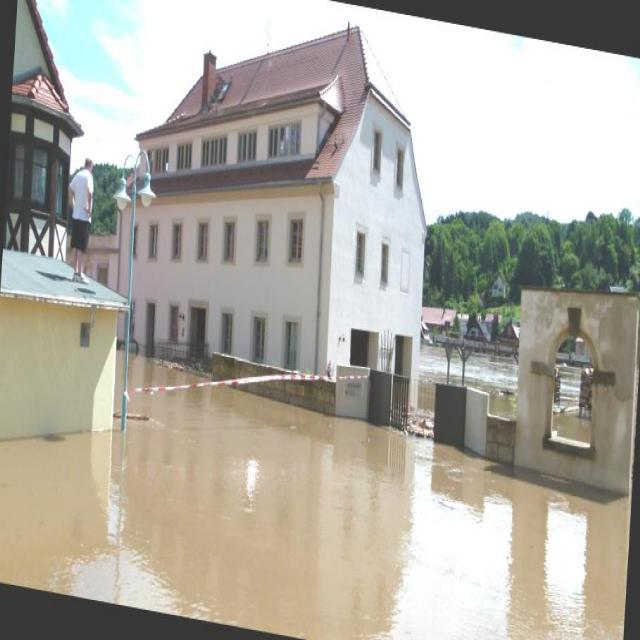flood: (0, 316, 636, 639)
